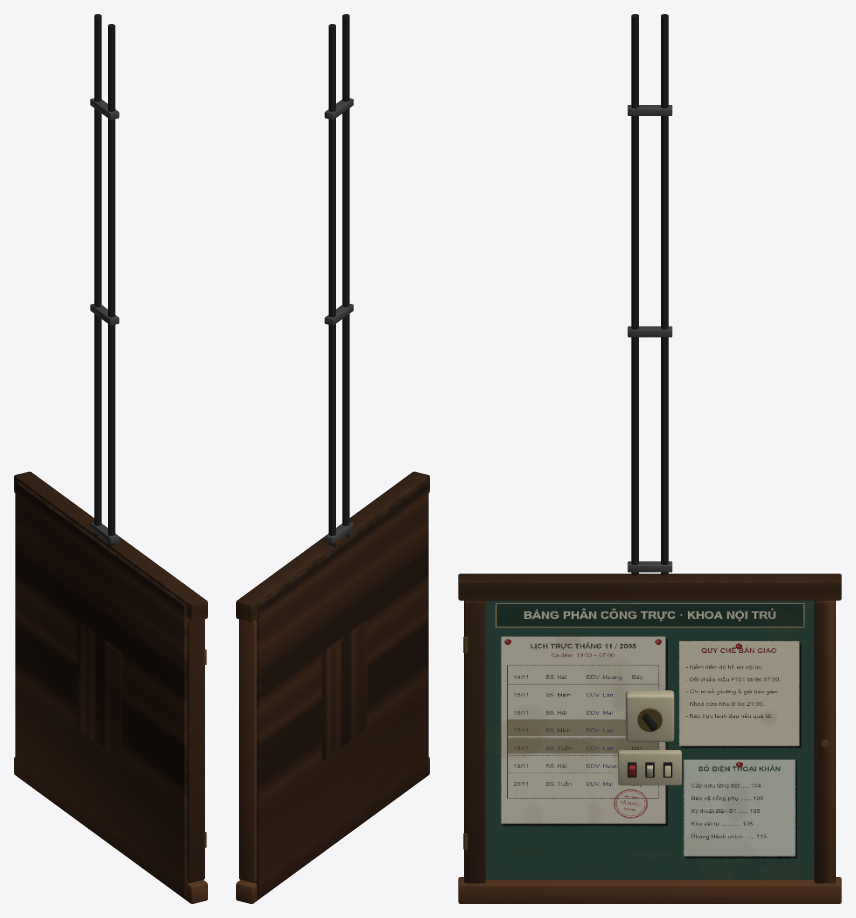
The model's file is CTCC_LOC02_WallFittings.fbx.
The picture shows the model from 3 angles, left to right: view 1: azimuth 30°, elevation 25°; view 2: azimuth 150°, elevation 25°; view 3: azimuth 270°, elevation 25°; orthographic projection. The views are drawn at different scales.
Visible parts, largest first — view 1: RosterBoard, SwitchBoard; view 2: RosterBoard, SwitchBoard; view 3: RosterBoard, SwitchBoard.
Boxes of the visible parts, x1,y1,x2,y2 form: RosterBoard: (14, 471, 207, 903); SwitchBoard: (76, 14, 122, 761); RosterBoard: (236, 471, 429, 903); SwitchBoard: (321, 14, 367, 761); RosterBoard: (458, 573, 841, 903); SwitchBoard: (618, 14, 681, 785).
Bounding box in the file's own units: 0.093 × 2.51 × 0.99.
